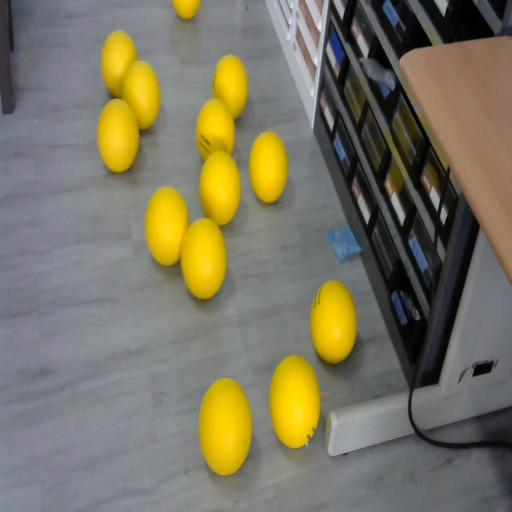FUEL: (198, 376, 252, 474), (268, 353, 321, 448), (310, 280, 358, 364), (144, 184, 190, 267), (180, 217, 226, 299), (198, 150, 242, 225), (97, 99, 140, 173), (248, 131, 288, 203), (101, 30, 138, 98), (212, 54, 250, 119), (172, 0, 202, 19)
